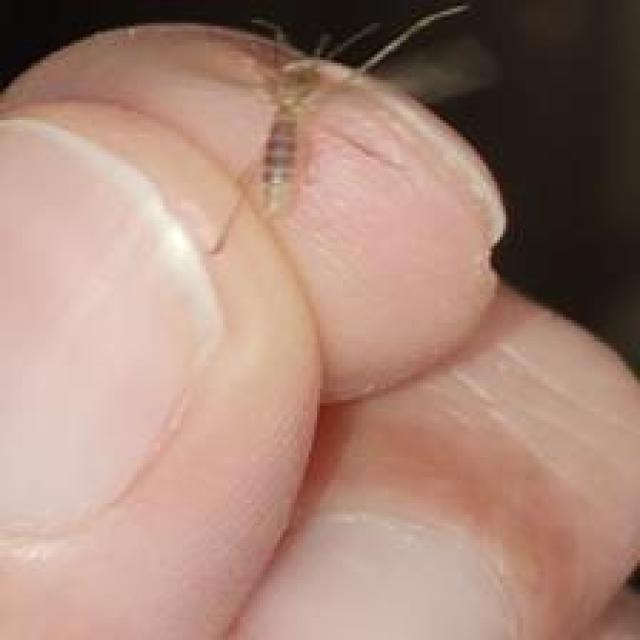Culex: (200, 0, 477, 257)
